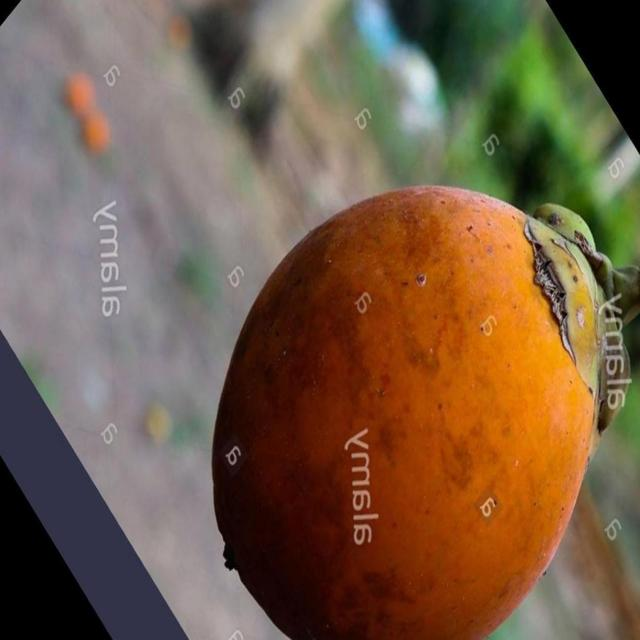good: (210, 185, 628, 639)
